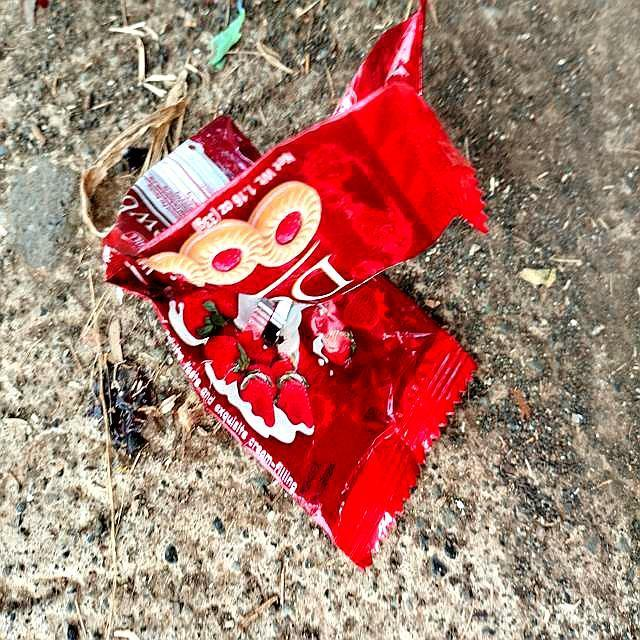Non-biodegradable: (97, 5, 491, 571)
